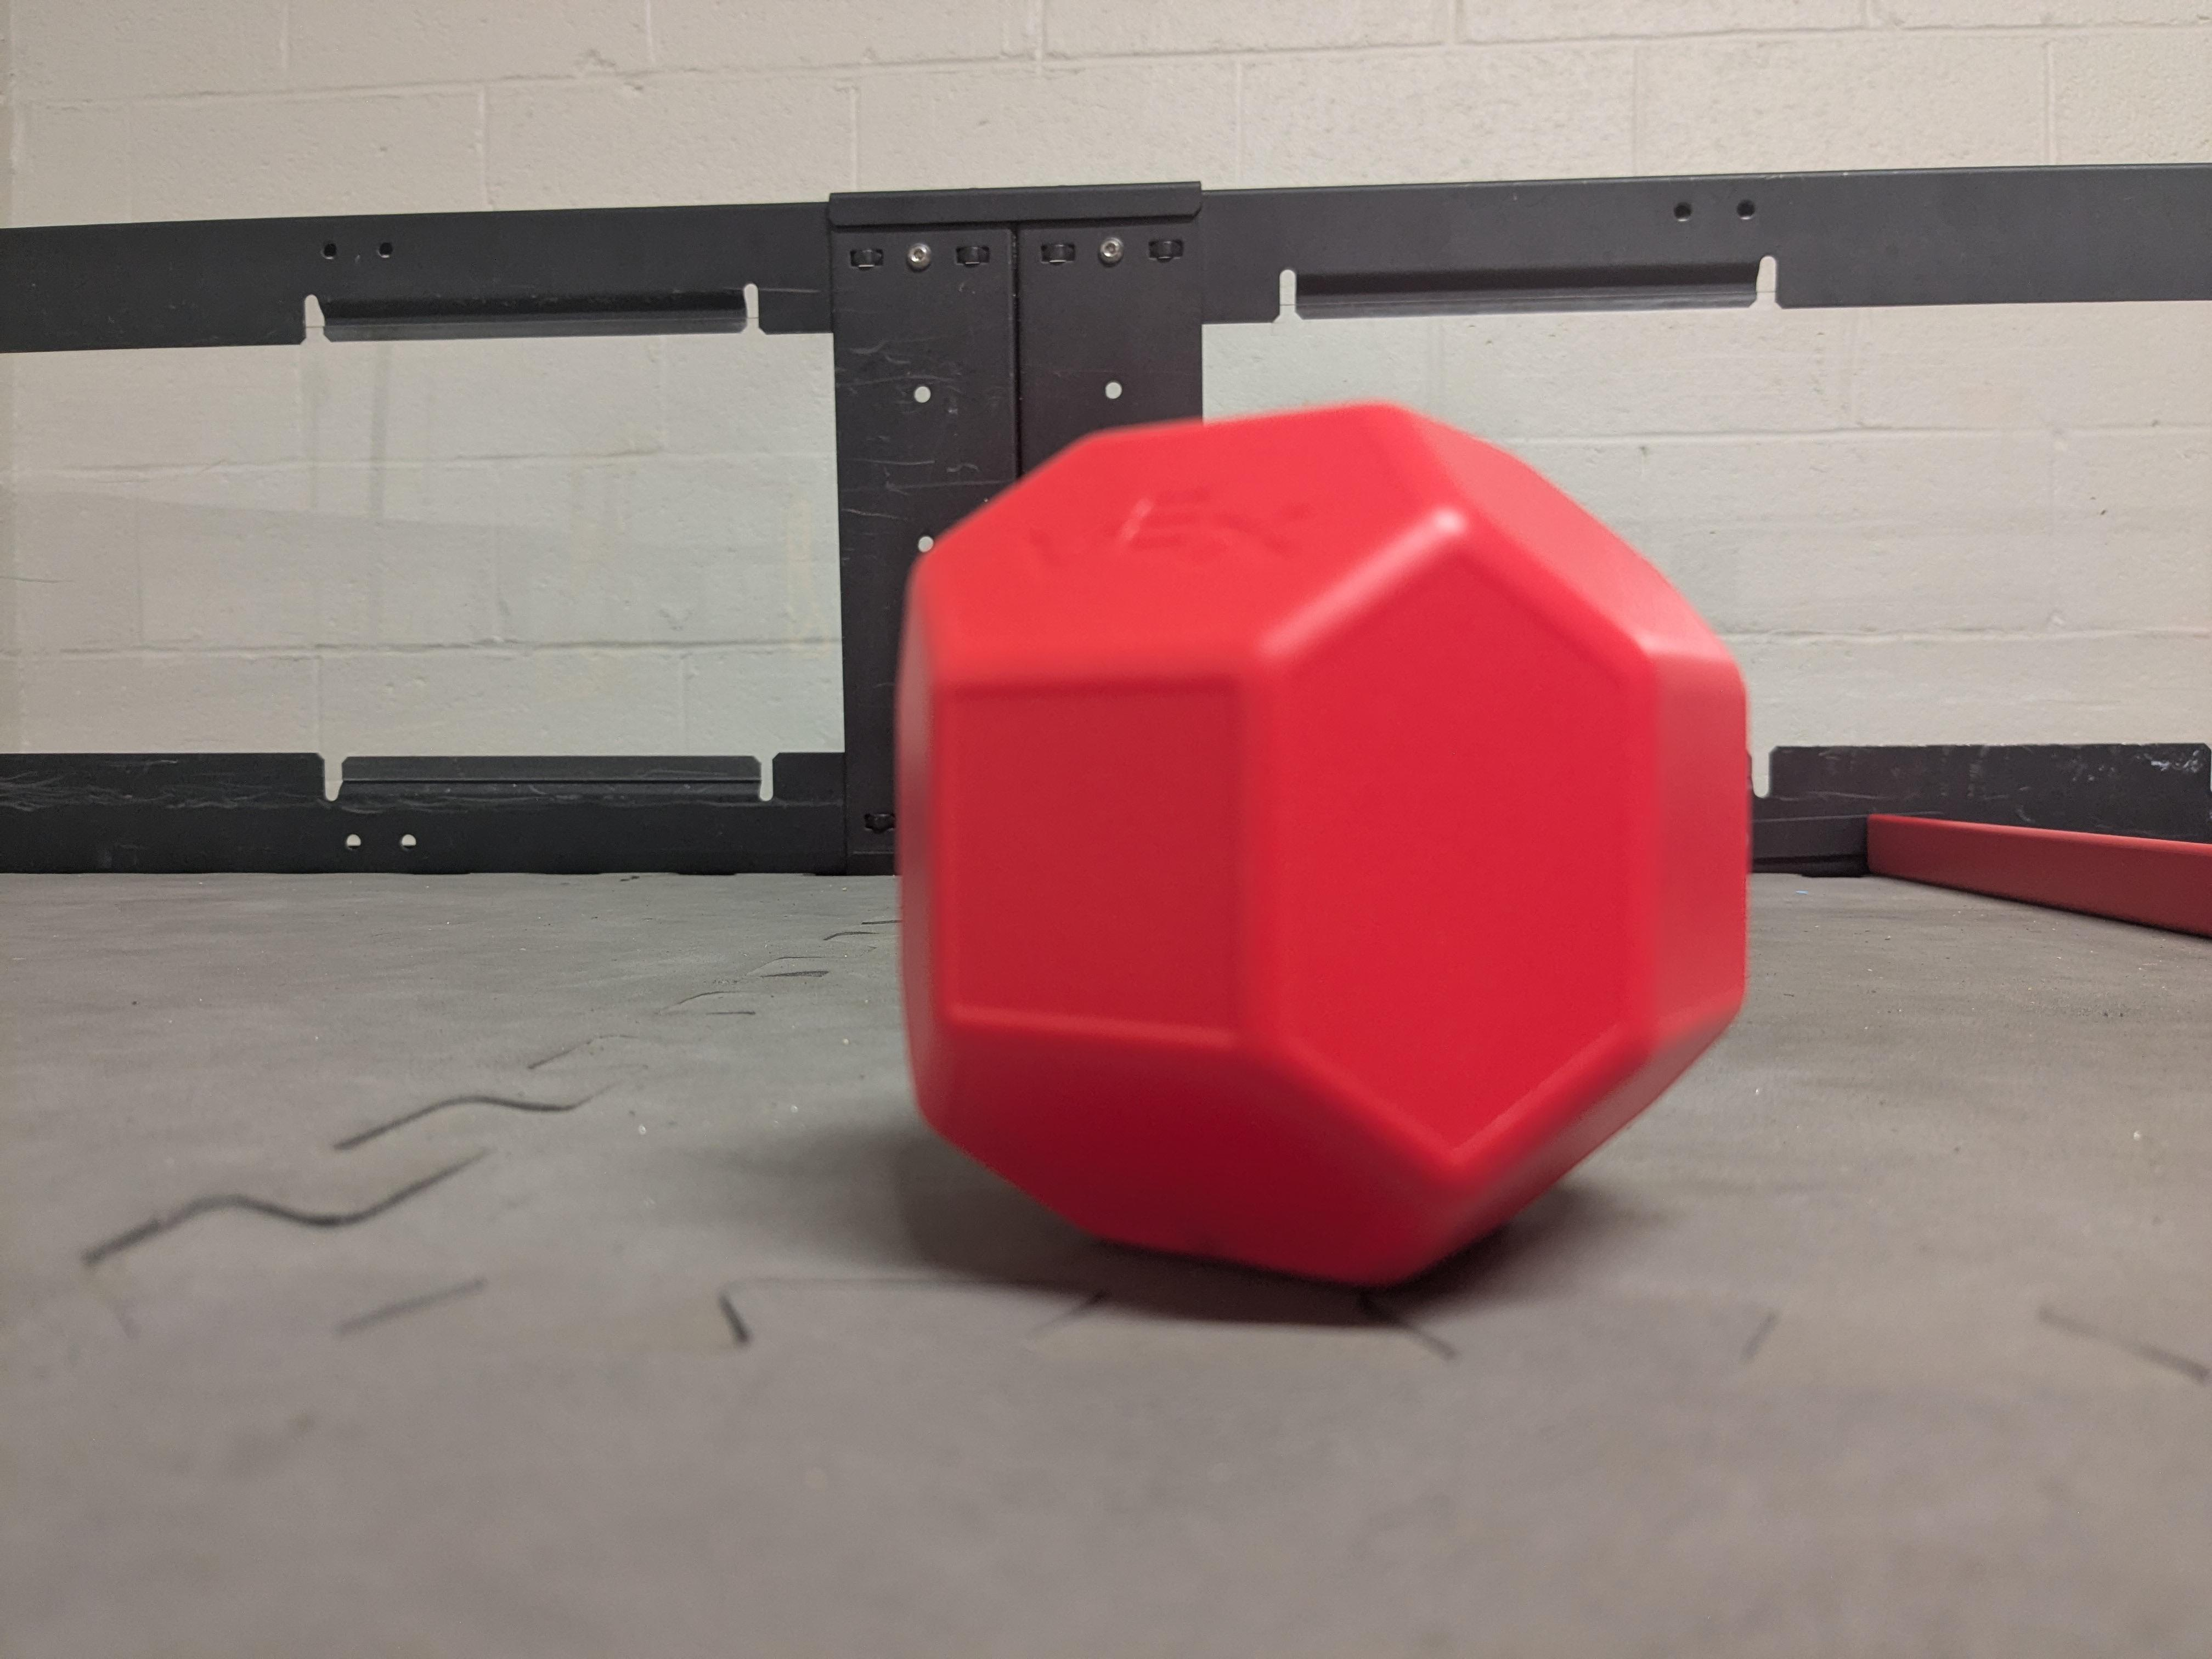Vex-Pieces-RED: (899, 404, 1749, 1284)
